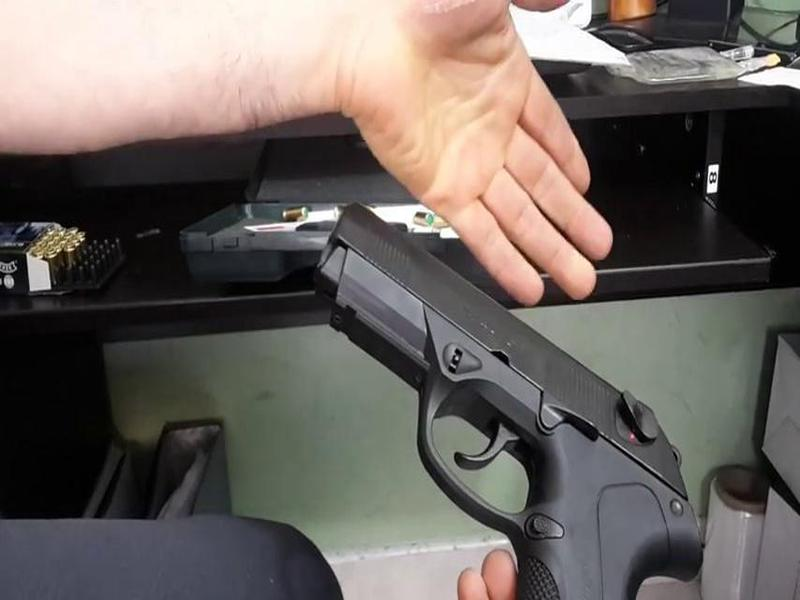Pistola: (311, 208, 709, 600)
